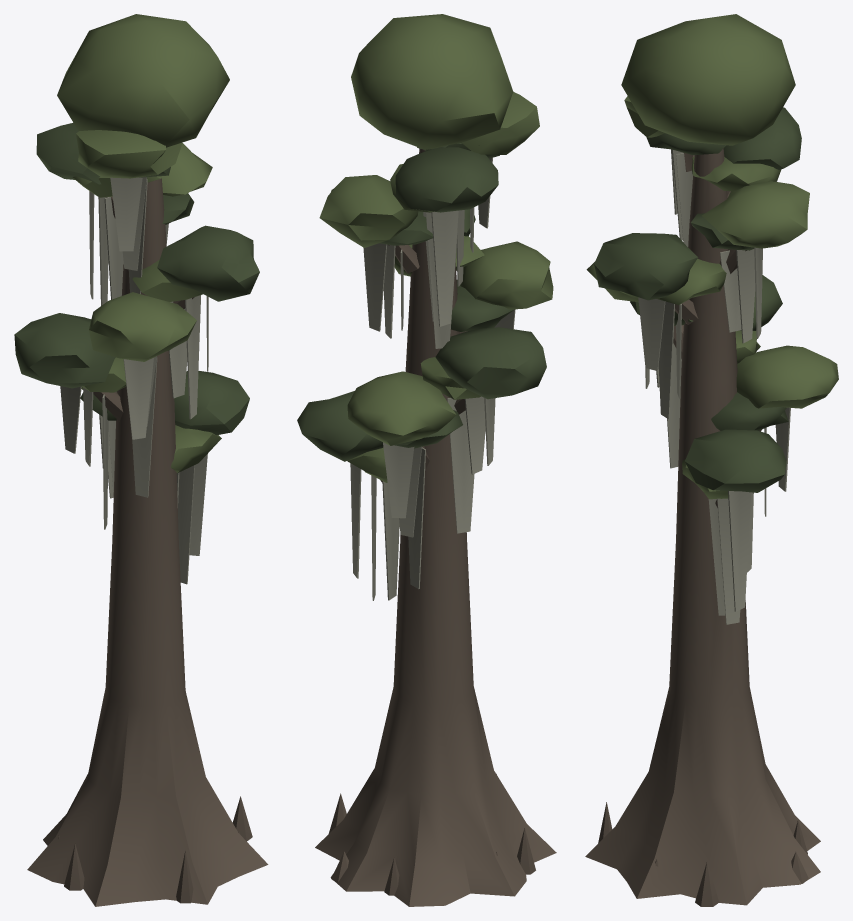
File: tree_cypress.glb
The picture shows the model from 3 angles, left to right: view 1: azimuth 30°, elevation 25°; view 2: azimuth 150°, elevation 25°; view 3: azimuth 270°, elevation 25°; orthographic projection.
Visible parts, largest first — view 1: tree_cypress; view 2: tree_cypress; view 3: tree_cypress.
Part boxes in pixels (box(x1,y1,x2,y2)): tree_cypress: box(14, 14, 268, 906); tree_cypress: box(297, 14, 556, 906); tree_cypress: box(585, 14, 838, 906).
Bounding box in the file's own units: 1.95 × 6.89 × 1.89.
